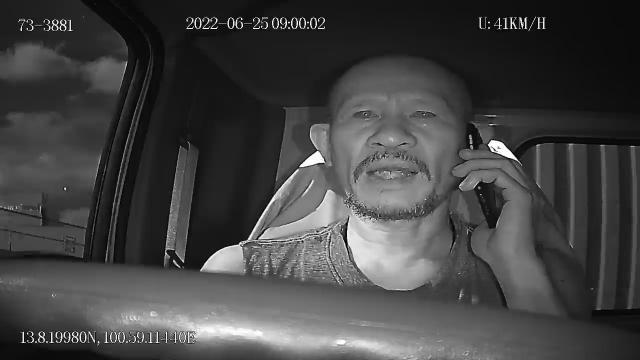PhoneUse: (465, 120, 499, 232)
SafeDriving: (402, 98, 444, 128), (346, 99, 386, 128)
